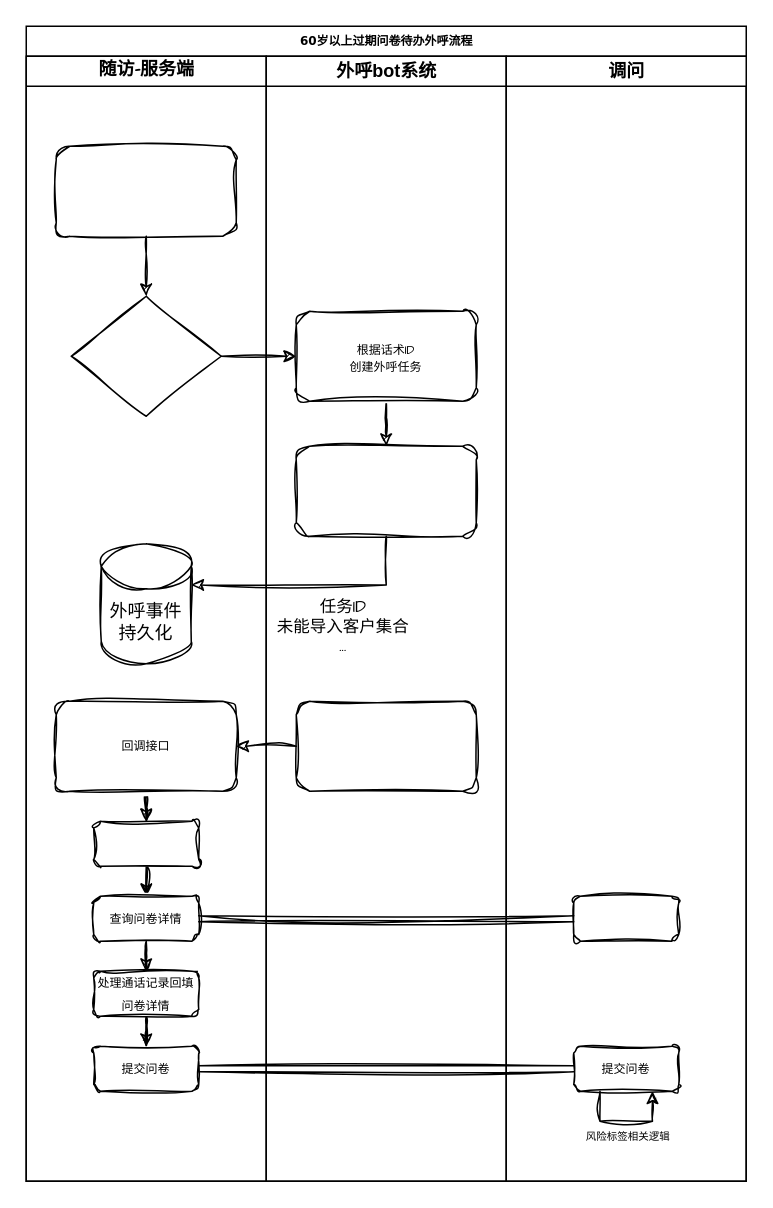
This 773x1208 diagram has some shape labels left out. Each missing label, with the centre of its shape:
"向任务中导入此次任务客户数据" goes at point 385,490.
"回调数据存储" goes at point 145,843.
"外呼通话记录回调" goes at point 385,745.
"待办过期定时任务" goes at point 145,190.
"满六十岁 命中话术" goes at point 145,355.
"问卷详情" goes at point 625,918.
